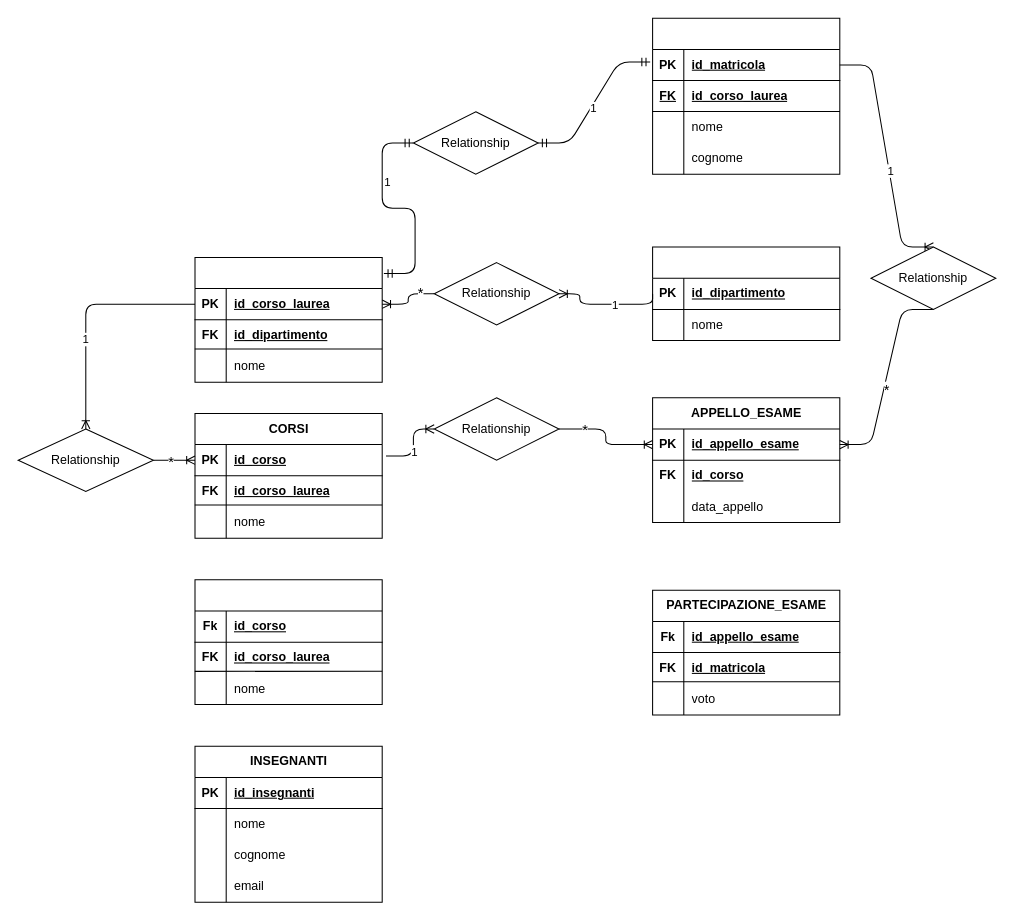
Image size: 1014x920. Some labels were removed from this diagram. The box of each missing label's shape, as (x1, y1, x2, y2) in pixels:
CORSI_LAUREA: (194, 256, 382, 382)
CORSO_INSEGNANTE: (194, 579, 382, 705)
DIPARTIMENTI: (652, 246, 840, 341)
STUDENTE: (652, 17, 840, 174)
